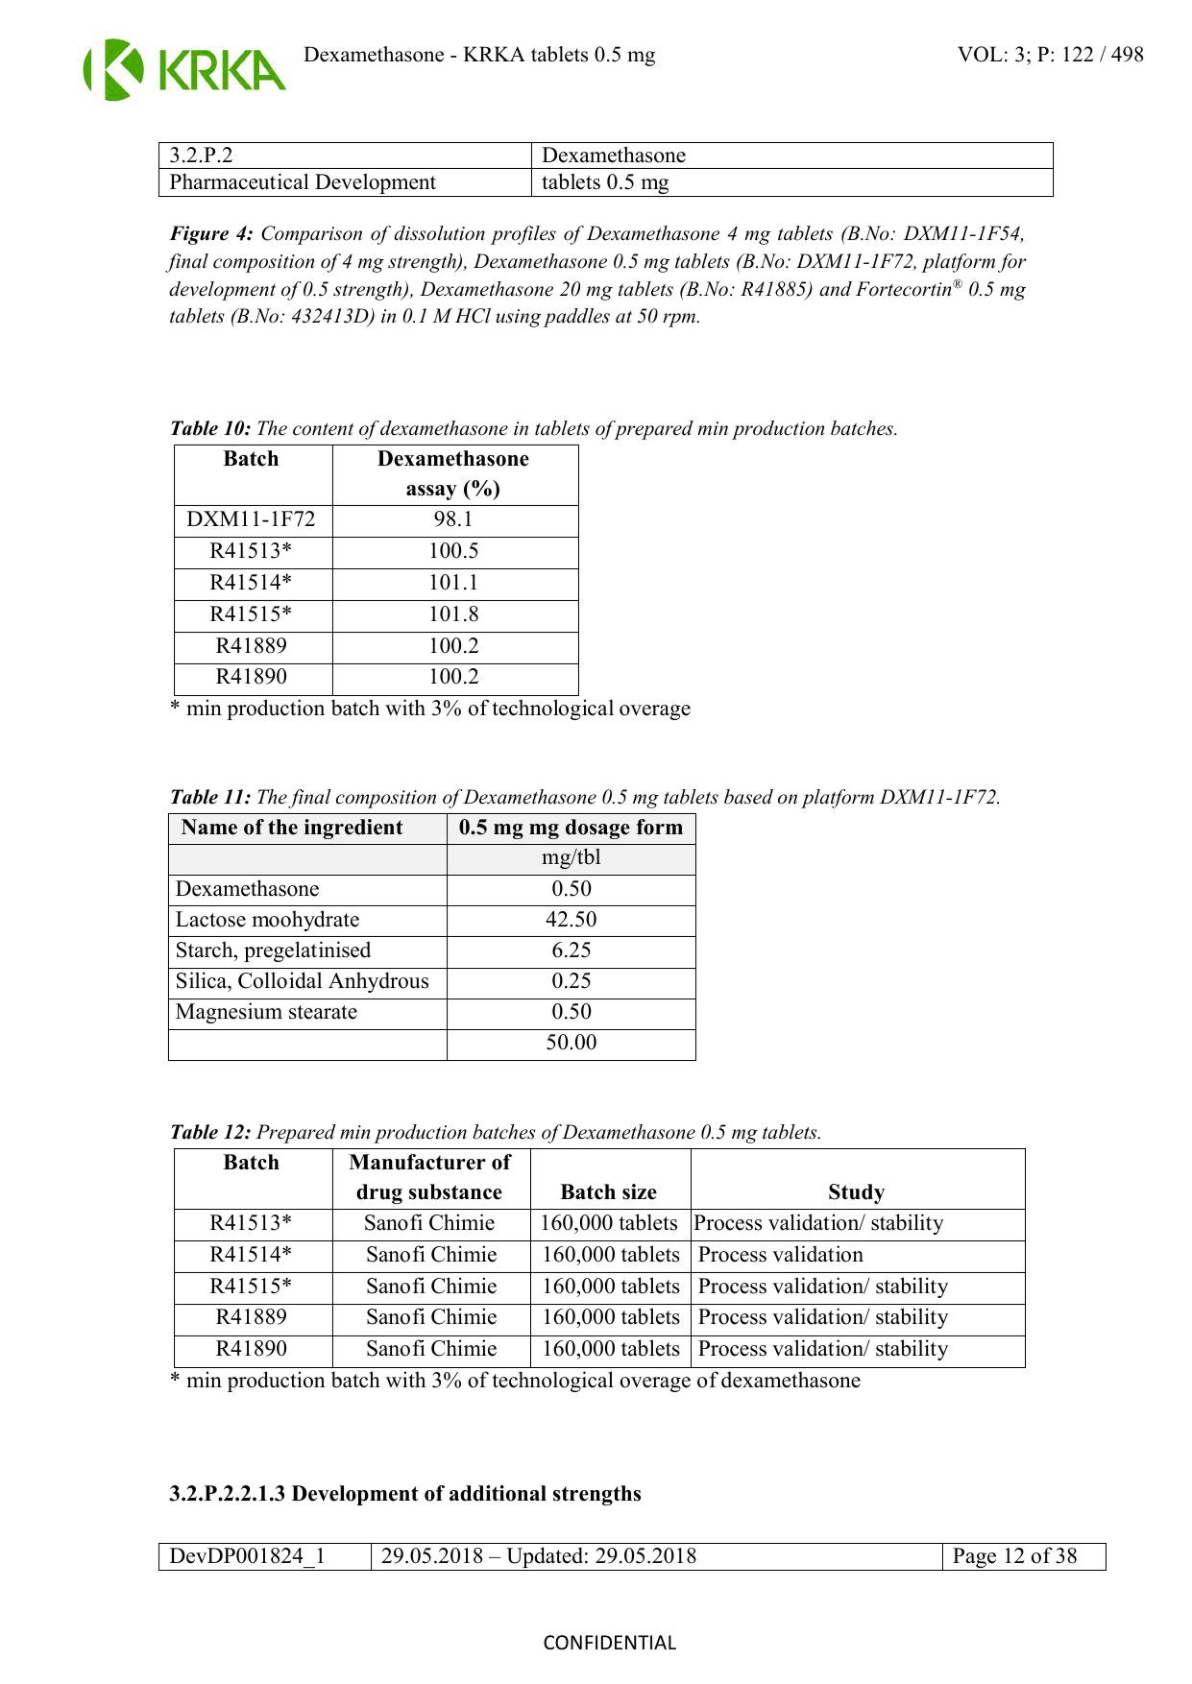full_lined: (172, 1148, 1026, 1368), (168, 811, 697, 1061), (173, 444, 581, 698), (157, 142, 1055, 197), (157, 1541, 1107, 1571)
